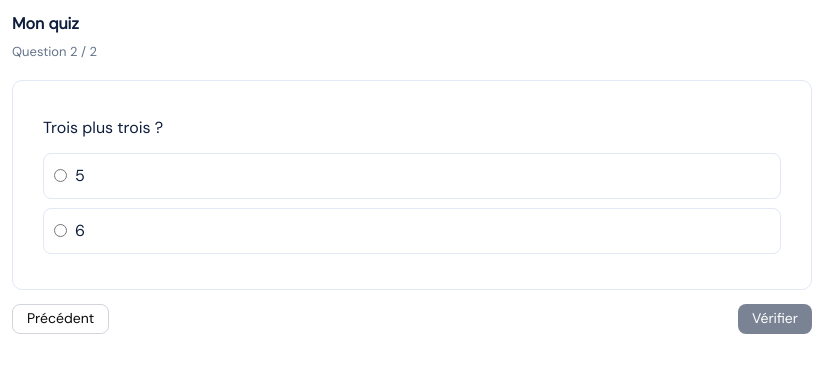
Test: QuizPassageWeb page › restores draft state from sessionStorage
The width and height of the screenshot is (829, 375).
Expected: the text "Trois plus trois ?" is shown, [43,116,163,138]
Click the radio button labelled "6" at x=60, y=230, box [54,224,67,237]
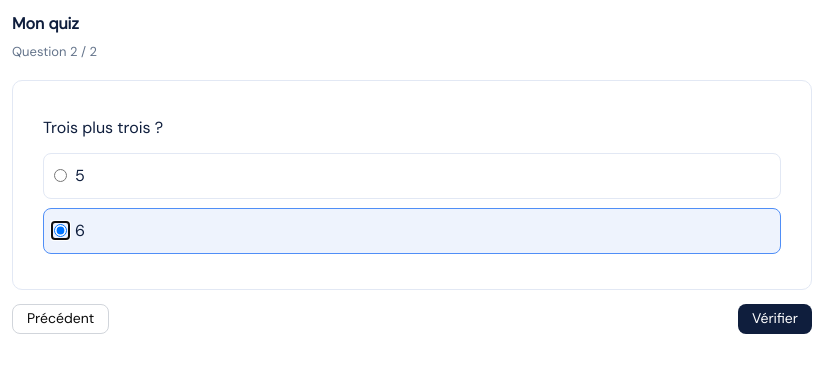
Click the button "Vérifier" at x=775, y=318, box [738,304,812,334]
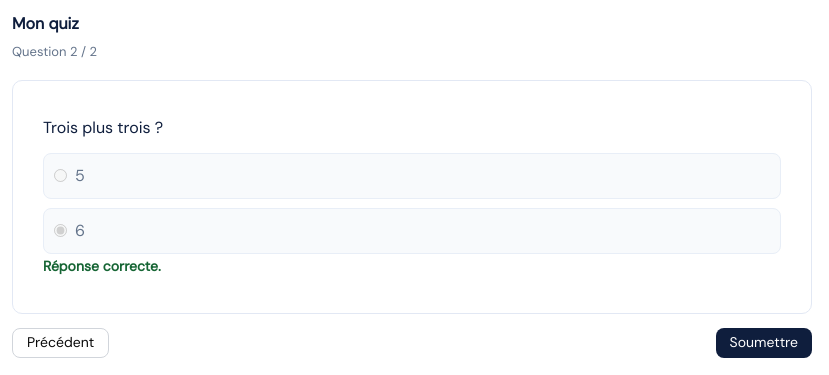
Result: the text "Réponse correcte." is shown at [43,256,161,274]
